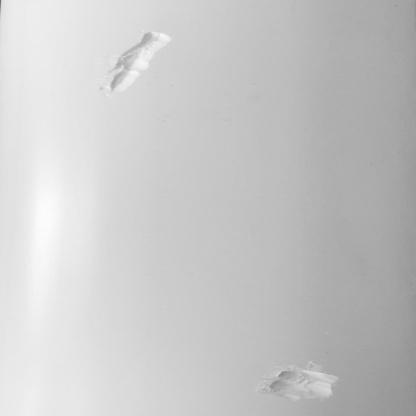sunshang: (96, 30, 179, 97), (258, 357, 347, 407)
